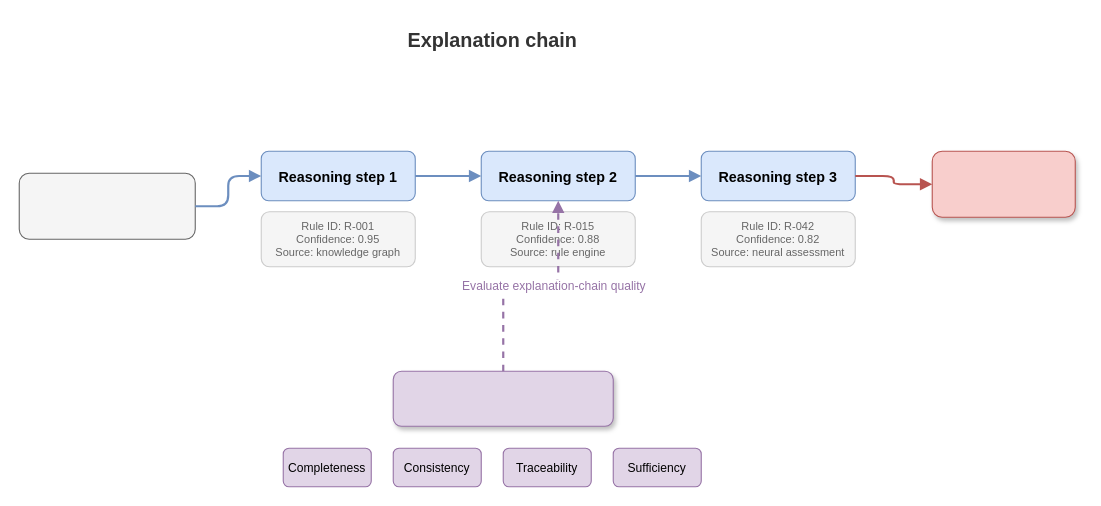
Some shapes in this 1101 by 506 pixel diagram are drawn without their labels. The shapes that lost their labels are listed below. From the top down, each one's centre as x and y in pixels, then its label:
At [106,205]: "Raw evidence Observational data, graph facts".
At [1004,185]: "Risk label High risk".
At [504,400]: "Faithfulness metric evaluation".
